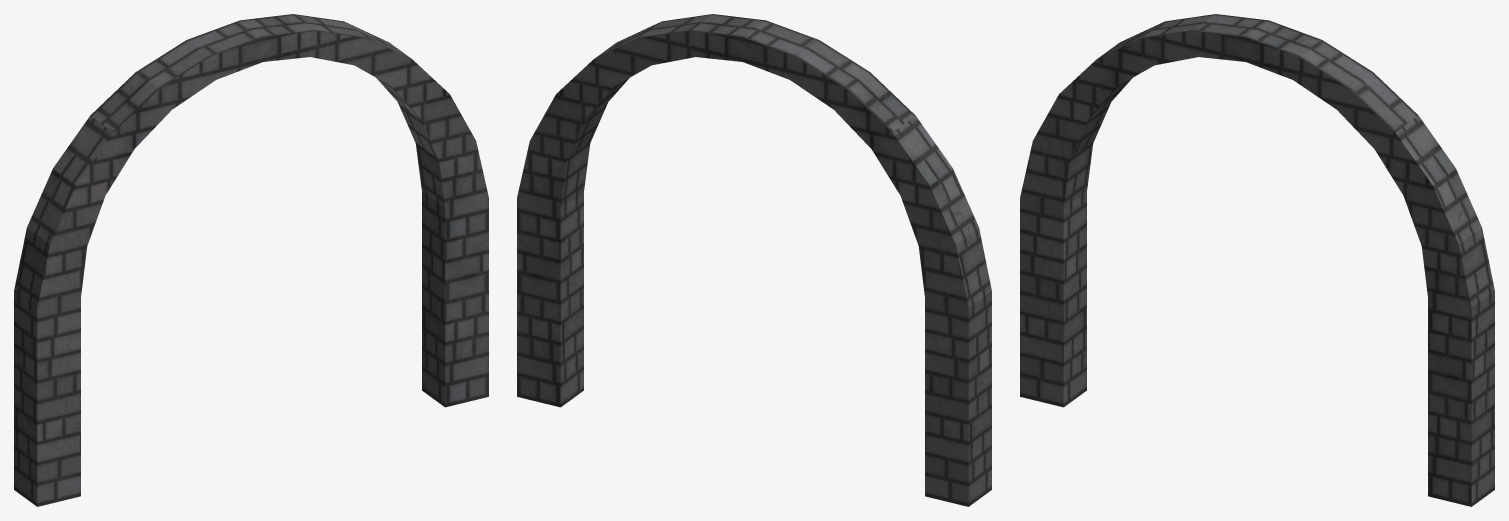
The model's file is kit_arch.glb.
The picture shows the model from 3 angles, left to right: view 1: azimuth 30°, elevation 25°; view 2: azimuth 150°, elevation 25°; view 3: azimuth 330°, elevation 25°; orthographic projection.
Visible parts, largest first — view 1: kit_arch; view 2: kit_arch; view 3: kit_arch.
Part boxes in pixels (<box>): kit_arch: <box>14,14,488,506</box>; kit_arch: <box>517,14,991,506</box>; kit_arch: <box>1020,14,1494,506</box>.
Size of the model in its own units: 8.06 by 7.07 by 0.72.
Materials: 1 (1 with a texture image).
